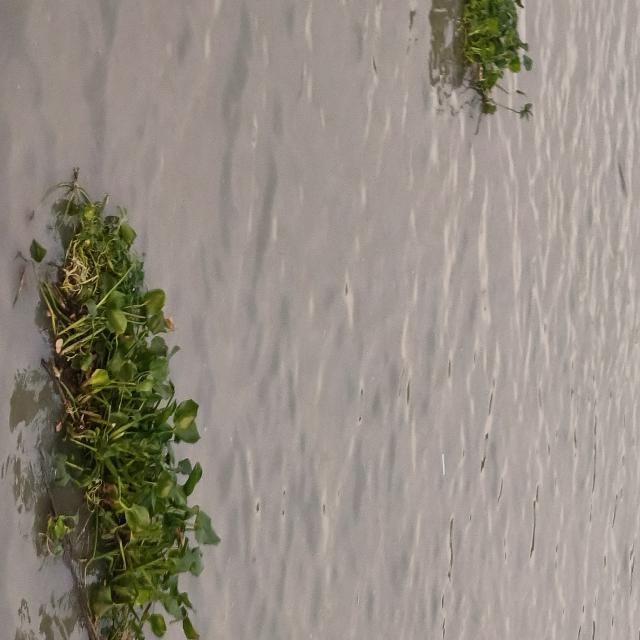Organic Debris: (25, 136, 223, 640), (428, 0, 540, 134)
